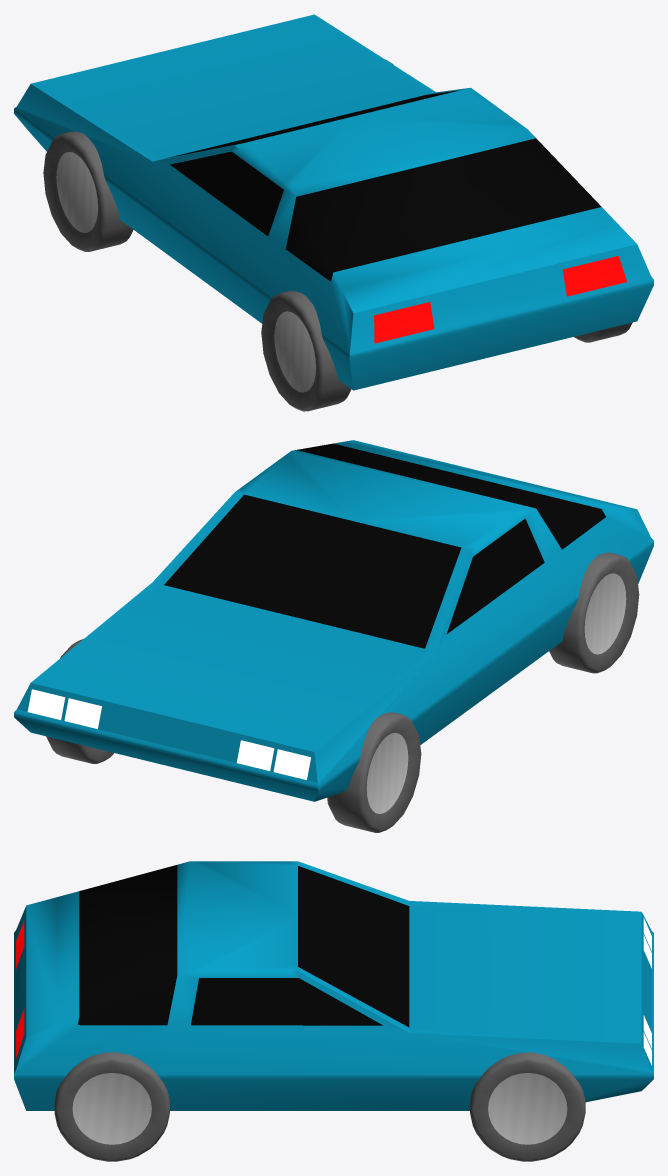
File: car.gltf
The picture shows the model from 3 angles, top to bottom: view 1: azimuth 30°, elevation 25°; view 2: azimuth 150°, elevation 25°; view 3: azimuth 270°, elevation 25°; orthographic projection. The views are drawn at different scales.
Parts seen in each view (by area): view 1: Chassis, Wheel3, Wheel1; view 2: Chassis, Wheel1, Wheel3, Wheel2; view 3: Chassis, Wheel4, Wheel2.
Boxes of the visible parts, x1,y1,x2,y2 form: Chassis: [14, 14, 653, 390]; Wheel3: [261, 290, 351, 411]; Wheel1: [43, 131, 133, 251]; Chassis: [14, 440, 653, 801]; Wheel1: [327, 712, 421, 832]; Wheel3: [549, 552, 639, 673]; Wheel2: [46, 639, 113, 763]; Chassis: [14, 861, 653, 1110]; Wheel4: [54, 1052, 169, 1161]; Wheel2: [470, 1052, 585, 1161].
Size of the model in its own units: 1.66 by 0.8934 by 3.
